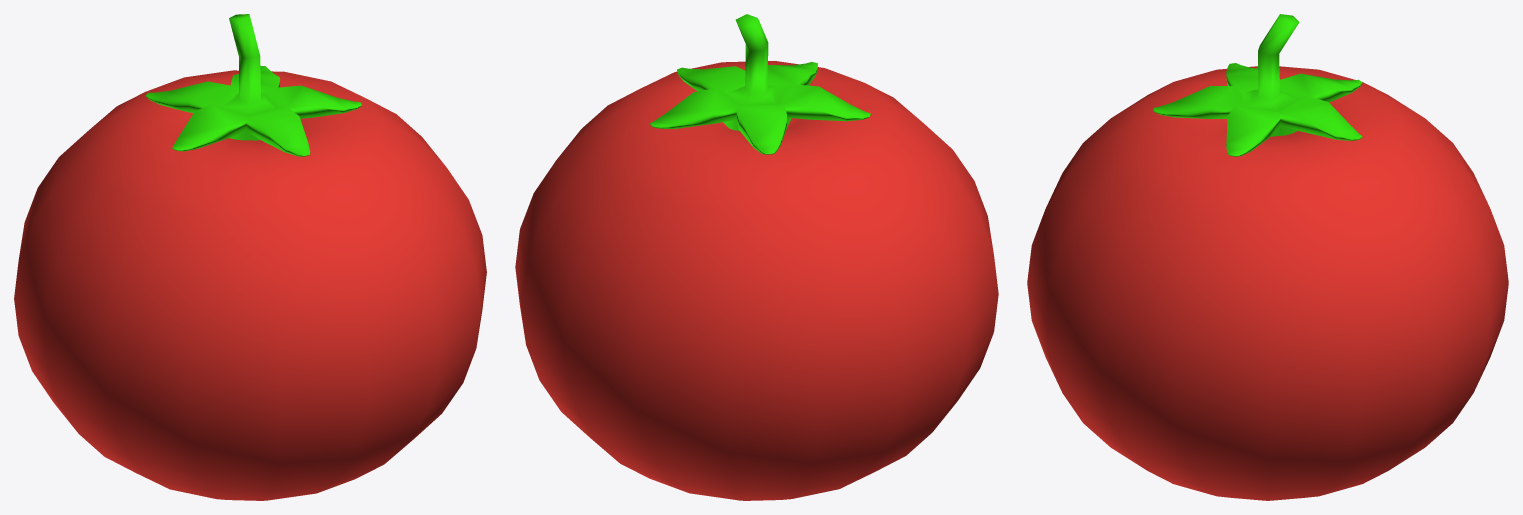
File: tomato.glb
The picture shows the model from 3 angles, left to right: view 1: azimuth 30°, elevation 25°; view 2: azimuth 150°, elevation 25°; view 3: azimuth 270°, elevation 25°; orthographic projection. The views are drawn at different scales.
Visible parts, largest first — view 1: Cylinder.002; view 2: Cylinder.002; view 3: Cylinder.002.
Part boxes in pixels (left/top/right/bottom): Cylinder.002: left=14, top=14, right=486, bottom=500; Cylinder.002: left=515, top=14, right=998, bottom=500; Cylinder.002: left=1027, top=14, right=1508, bottom=500.
Size of the model in its own units: 0.8163 by 0.8597 by 0.8163.
